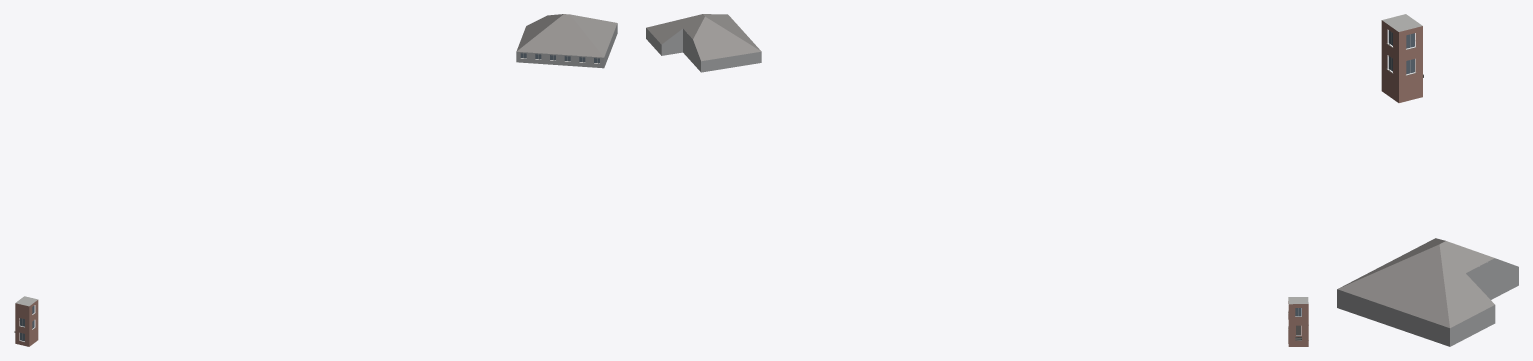
3 renders of one model, left to right at view 1: azimuth 30°, elevation 25°; view 2: azimuth 150°, elevation 25°; view 3: azimuth 270°, elevation 25°, orthographic. The views are drawn at different scales.
Parts seen in each view (by area): view 1: way/687681566, way/1304334709; view 2: way/687681566, way/1304334709; view 3: way/687681566, way/1304334709.
Boxes of the visible parts, x1,y1,x2,y2 form: way/687681566: [516, 14, 617, 68]; way/1304334709: [14, 296, 38, 346]; way/687681566: [646, 14, 761, 72]; way/1304334709: [1288, 297, 1308, 346]; way/687681566: [1337, 238, 1518, 346]; way/1304334709: [1381, 14, 1423, 102].
Size of the model in its own units: 145 by 41.64 by 21.19.
